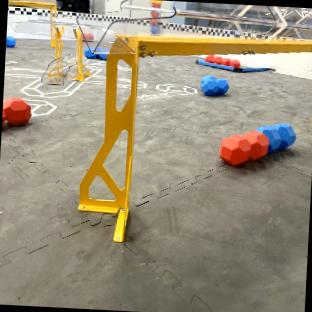V5_BLUE: (258, 123, 295, 149), (201, 75, 228, 94), (6, 36, 16, 46)
V5_RED: (218, 130, 269, 165), (2, 97, 30, 125), (85, 33, 93, 39)
